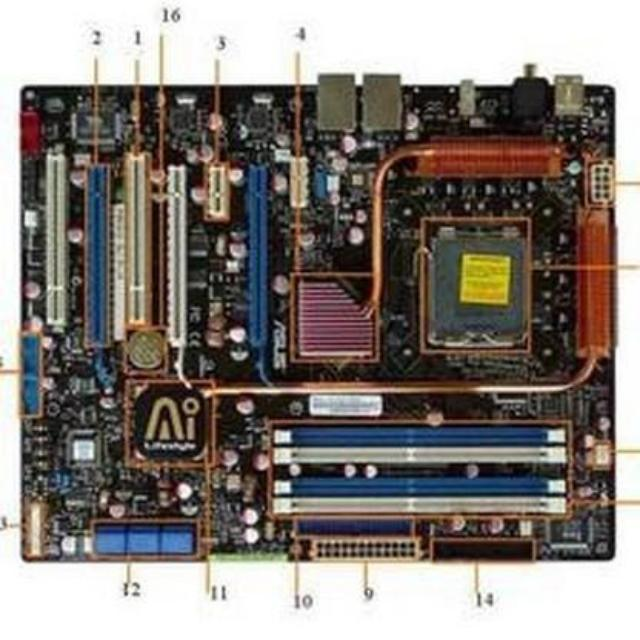Mainboard: (12, 80, 618, 566)
